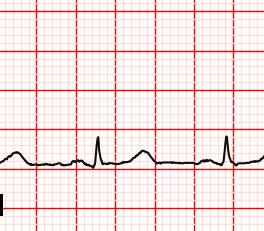LVH: (123, 146, 159, 169)
Poor R Progression: (92, 132, 104, 169), (221, 133, 233, 170)
